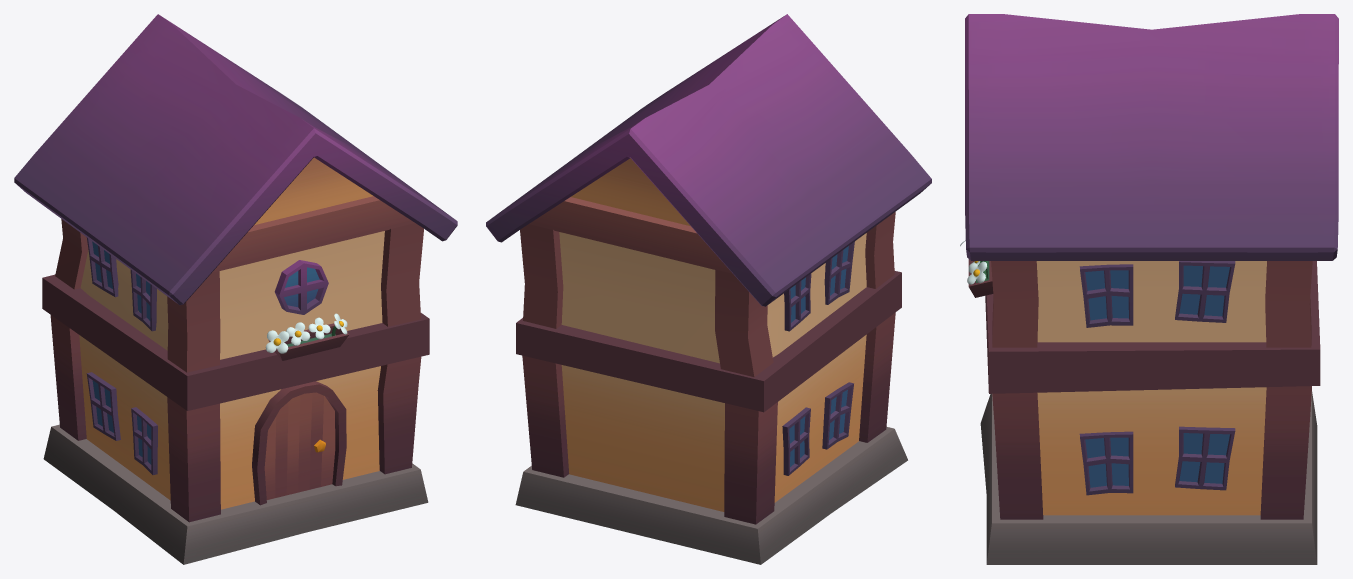
File: village_long_purple_house.gltf
The picture shows the model from 3 angles, left to right: view 1: azimuth 30°, elevation 25°; view 2: azimuth 150°, elevation 25°; view 3: azimuth 270°, elevation 25°; orthographic projection. The views are drawn at different scales.
Parts seen in each view (by area): view 1: House_2Story_Purple_Material.005_0 (×34); view 2: House_2Story_Purple_Material.005_0 (×25); view 3: House_2Story_Purple_Material.005_0 (×18).
Boxes of the visible parts, x1,y1,x2,y2 form: House_2Story_Purple_Material.005_0 (×34): (14,14,457,564); House_2Story_Purple_Material.005_0 (×25): (486,14,931,564); House_2Story_Purple_Material.005_0 (×18): (965,14,1338,564).
Size of the model in its own units: 1.98 by 2.68 by 1.91.
1 material, 1 textured.
